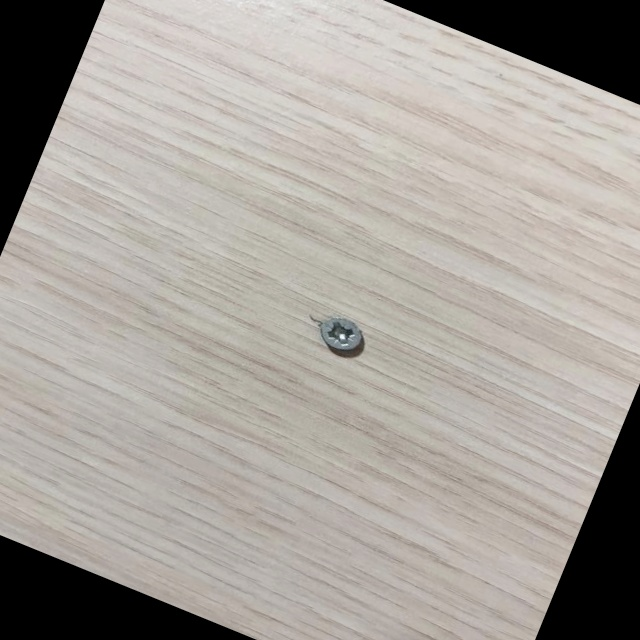pozidriv: (315, 312, 367, 357)
